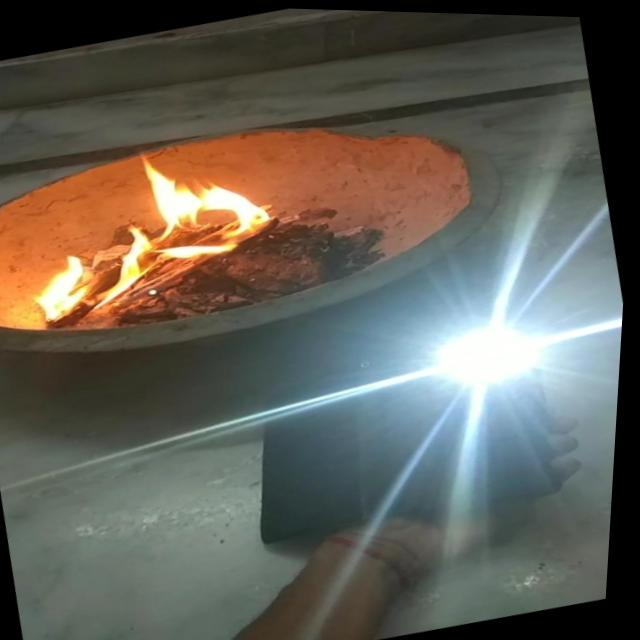fire: (0, 130, 287, 334)
